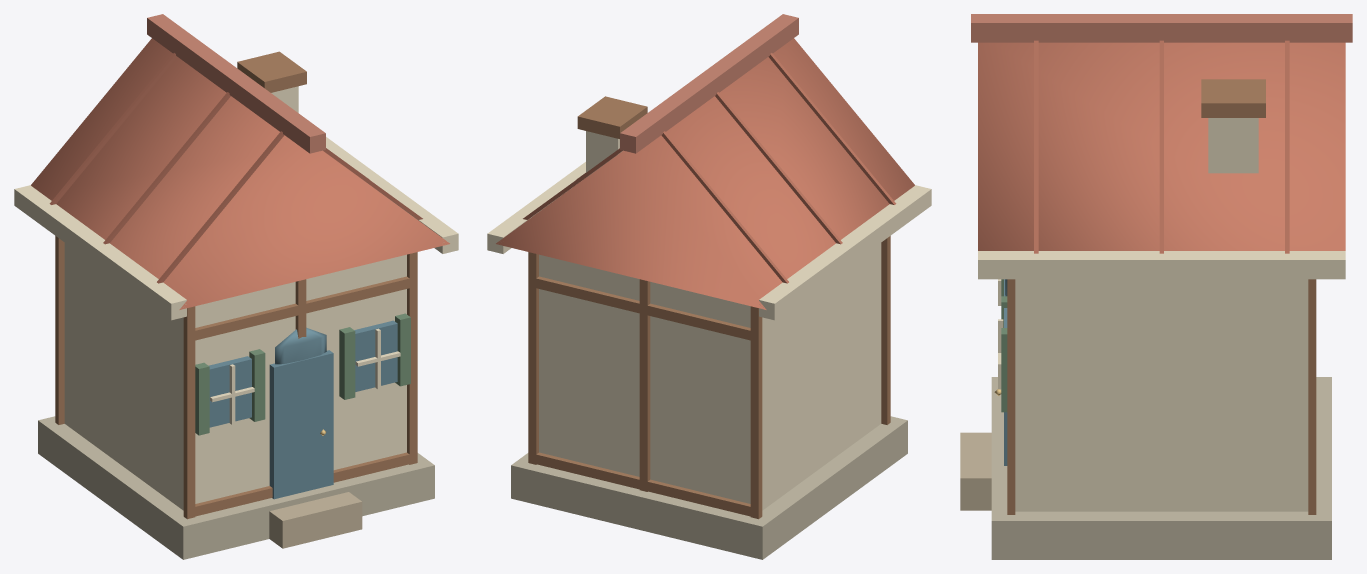
File: house_basic.glb
The picture shows the model from 3 angles, left to right: view 1: azimuth 30°, elevation 25°; view 2: azimuth 150°, elevation 25°; view 3: azimuth 270°, elevation 25°; orthographic projection. The views are drawn at different scales.
Visible parts, largest first — view 1: _MeshInstance3D_4, _MeshInstance3D_3, _MeshInstance3D_2, _MeshInstance3D_24, _MeshInstance3D_5, _MeshInstance3D_6, _MeshInstance3D_39, _MeshInstance3D_23, _MeshInstance3D_19, _MeshInstance3D_32, _MeshInstance3D_27, _MeshInstance3D_22 (+13 smaller); view 2: _MeshInstance3D_3, _MeshInstance3D_4, _MeshInstance3D_2, _MeshInstance3D_5, _MeshInstance3D_6, _MeshInstance3D_18, _MeshInstance3D_17, _MeshInstance3D_14, _MeshInstance3D_15, _MeshInstance3D_16, _MeshInstance3D_38, _MeshInstance3D_19 (+5 smaller); view 3: _MeshInstance3D_4, _MeshInstance3D_3, _MeshInstance3D_2, _MeshInstance3D_5, _MeshInstance3D_10, _MeshInstance3D_37, _MeshInstance3D_38, _MeshInstance3D_39, _MeshInstance3D_16, _MeshInstance3D_21, _MeshInstance3D_11, _MeshInstance3D_13 (+2 smaller).
Part boxes in pixels (box(x1,y1,x2,y2)): _MeshInstance3D_4: box(31, 38, 449, 309); _MeshInstance3D_3: box(64, 243, 406, 510); _MeshInstance3D_2: box(38, 416, 434, 559); _MeshInstance3D_24: box(269, 350, 333, 499); _MeshInstance3D_5: box(147, 14, 325, 153); _MeshInstance3D_6: box(14, 185, 186, 320); _MeshInstance3D_39: box(269, 492, 362, 548); _MeshInstance3D_23: box(188, 276, 416, 341); _MeshInstance3D_19: box(183, 306, 195, 519); _MeshInstance3D_32: box(354, 320, 397, 391); _MeshInstance3D_27: box(209, 356, 251, 427); _MeshInstance3D_22: box(188, 452, 416, 517); _MeshInstance3D_3: box(539, 243, 881, 510); _MeshInstance3D_4: box(496, 38, 914, 309); _MeshInstance3D_2: box(511, 416, 907, 559); _MeshInstance3D_5: box(620, 14, 798, 153); _MeshInstance3D_6: box(759, 185, 931, 320); _MeshInstance3D_18: box(529, 276, 757, 341); _MeshInstance3D_17: box(529, 452, 757, 517); _MeshInstance3D_14: box(750, 306, 762, 519); _MeshInstance3D_15: box(639, 279, 650, 491); _MeshInstance3D_16: box(528, 252, 538, 464); _MeshInstance3D_38: box(577, 96, 647, 138); _MeshInstance3D_19: box(881, 236, 890, 424); _MeshInstance3D_4: box(978, 42, 1345, 250); _MeshInstance3D_3: box(1015, 279, 1308, 511); _MeshInstance3D_2: box(991, 377, 1331, 559); _MeshInstance3D_5: box(971, 14, 1352, 42); _MeshInstance3D_10: box(978, 251, 1345, 279); _MeshInstance3D_37: box(1208, 118, 1258, 173); _MeshInstance3D_38: box(1201, 79, 1265, 117); _MeshInstance3D_39: box(960, 432, 991, 510); _MeshInstance3D_16: box(1308, 279, 1316, 514); _MeshInstance3D_21: box(1007, 279, 1015, 514); _MeshInstance3D_11: box(1285, 40, 1289, 253); _MeshInstance3D_13: box(1034, 40, 1038, 253).
Size of the model in its own units: 2.17 by 2.89 by 2.19.
